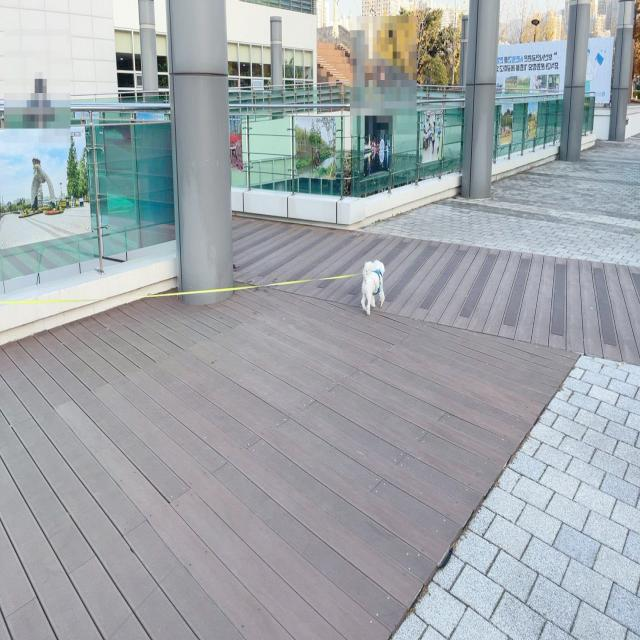Dog: (360, 258, 385, 316)
